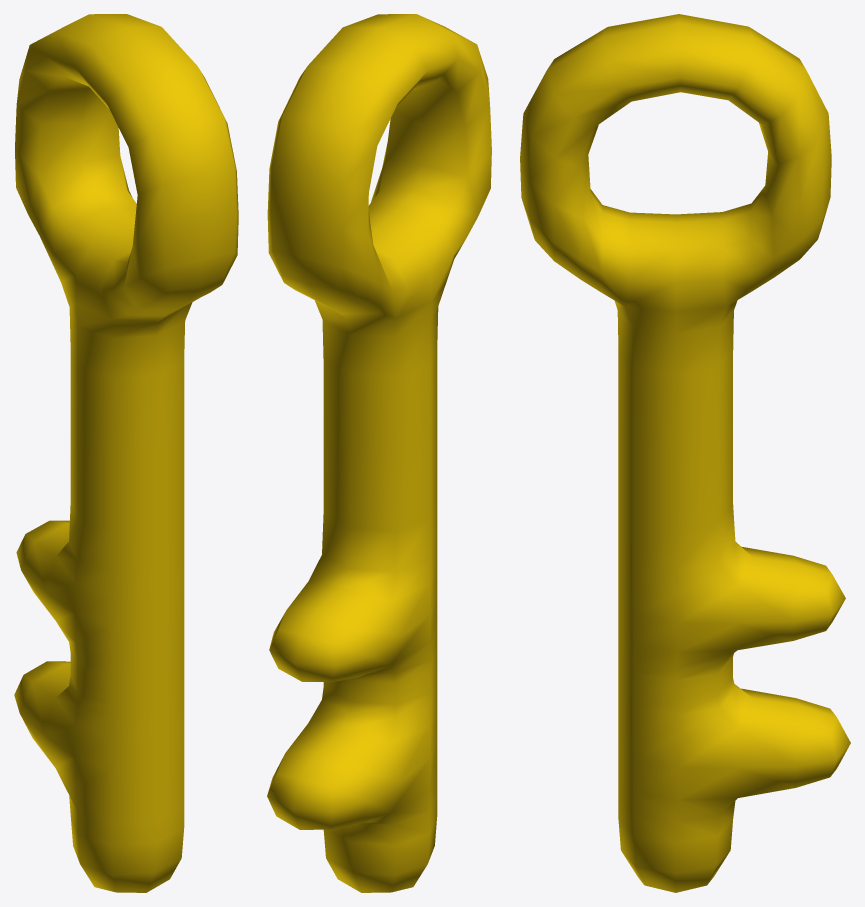
The model's file is Key.fbx.
3 views of the same model, side by side, from view 1: azimuth 30°, elevation 25°; view 2: azimuth 150°, elevation 25°; view 3: azimuth 270°, elevation 25° (orthographic).
Visible parts, largest first — view 1: Cube; view 2: Cube; view 3: Cube.
Part boxes in pixels (box(x1,y1,x2,y2)): Cube: box(14, 14, 238, 892); Cube: box(267, 14, 491, 892); Cube: box(520, 14, 850, 892).
Bounding box in the file's own units: 17.77 × 142 × 49.47.
